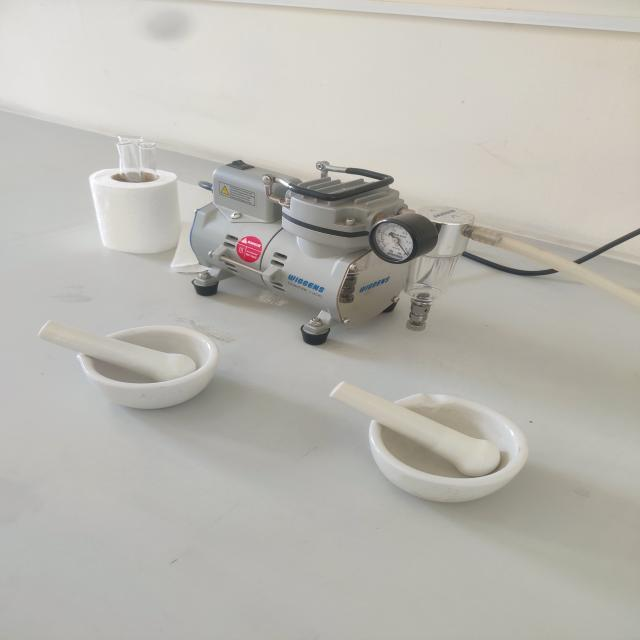Porcelain_Mortar Pestle: (308, 340, 563, 526), (13, 295, 234, 422)
